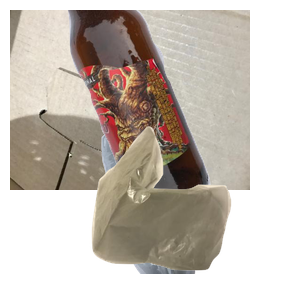cardboard: (10, 10, 250, 190)
glass: (65, 10, 300, 190)
plastic: (99, 120, 289, 300)
trash: (89, 124, 300, 300)
